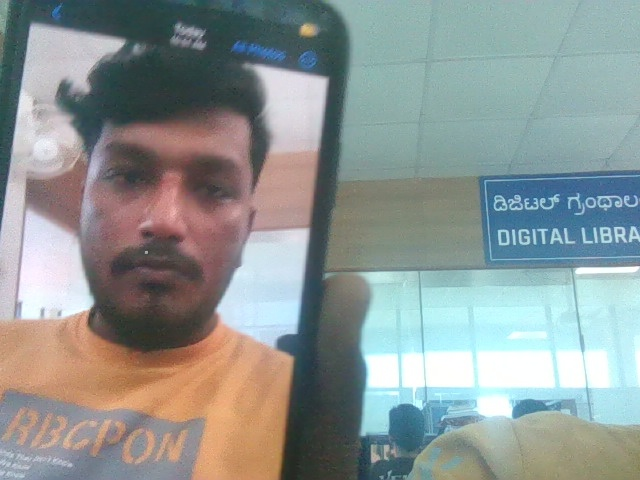fake: (53, 17, 284, 345)
